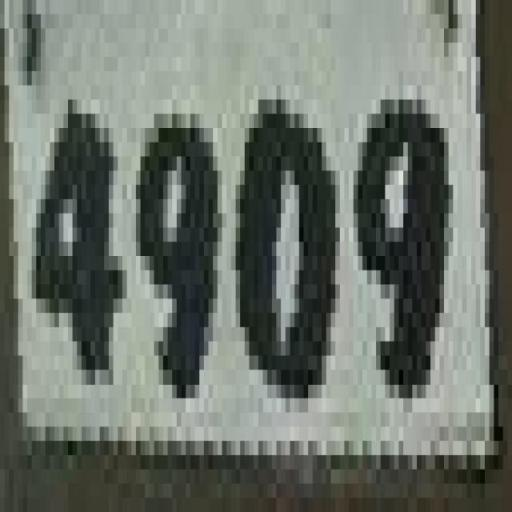number plate: (0, 14, 498, 483)
